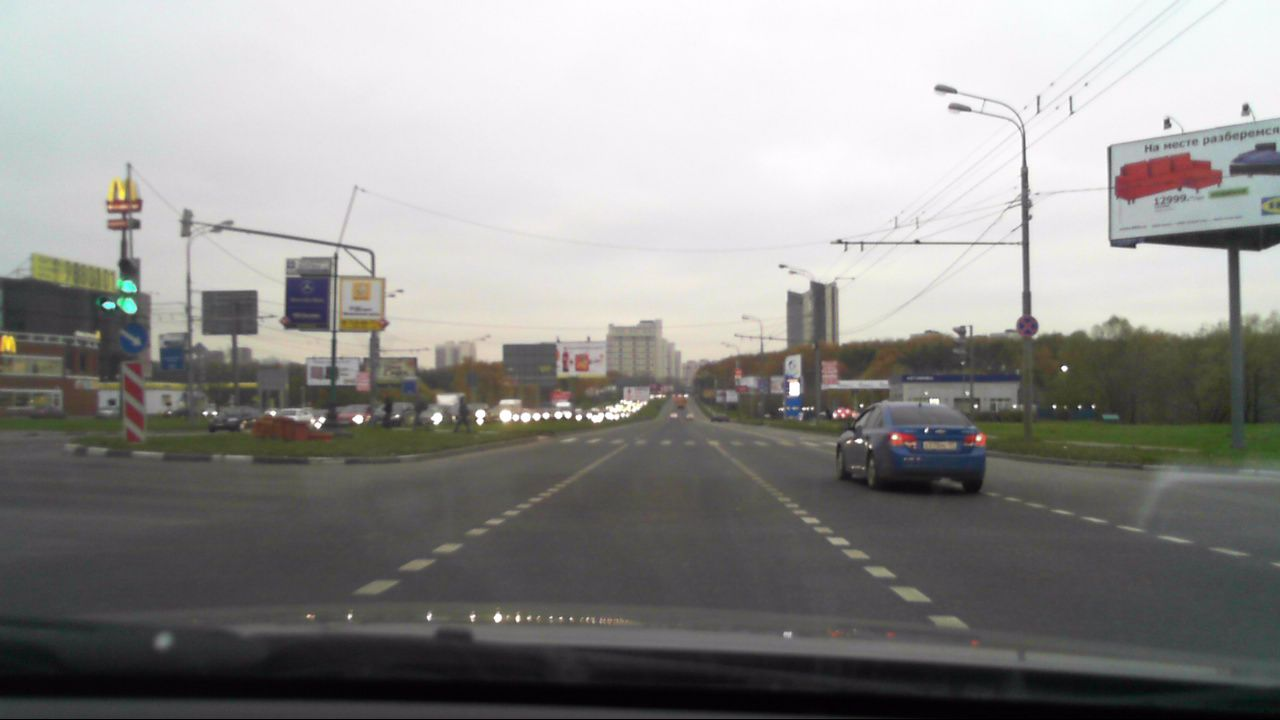No Parking: (1016, 315, 1039, 337)
